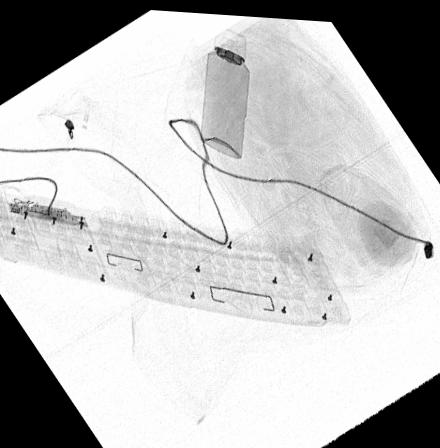Sprayer: (199, 23, 251, 154)
